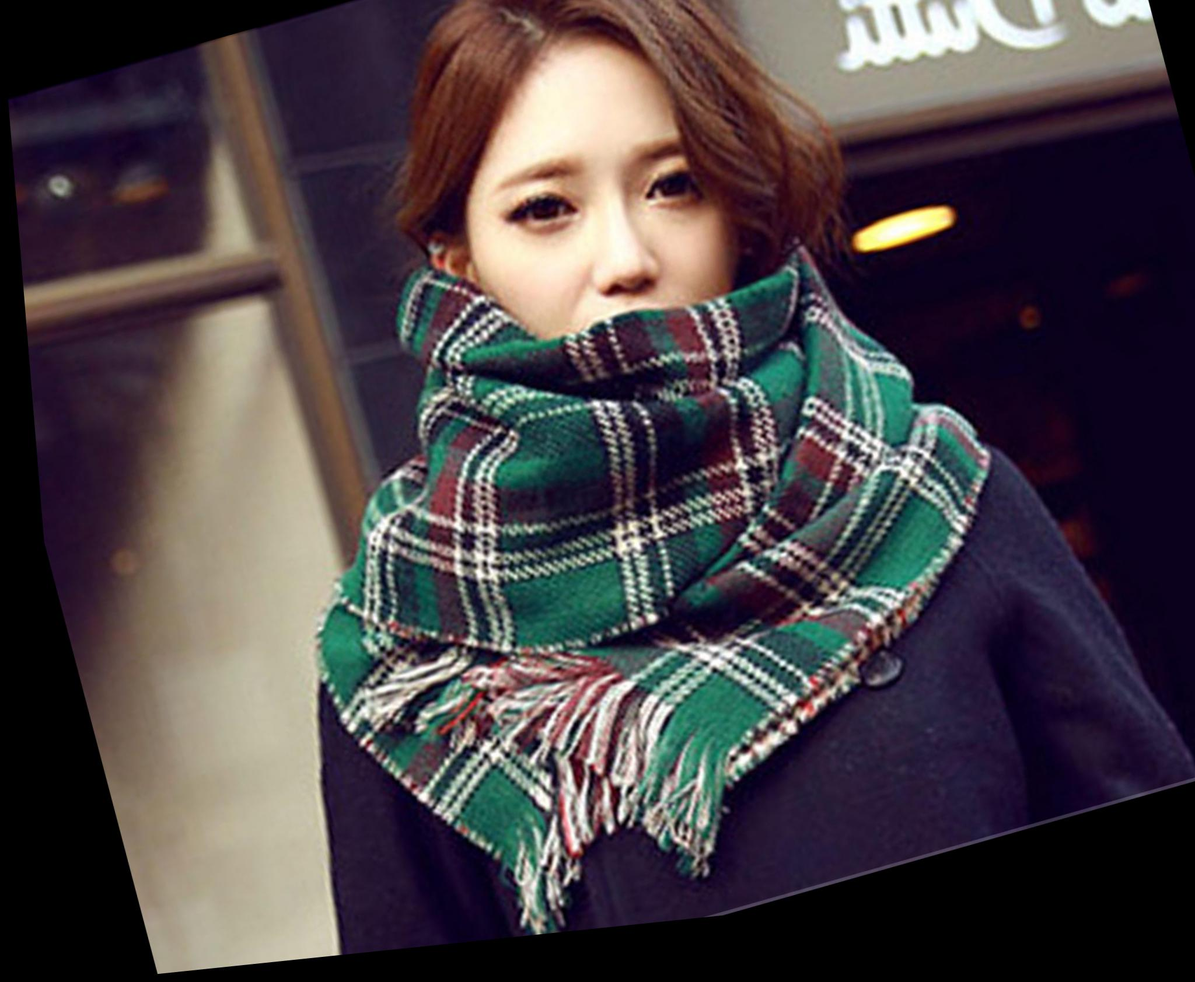WRONG: (454, 116, 780, 447)
